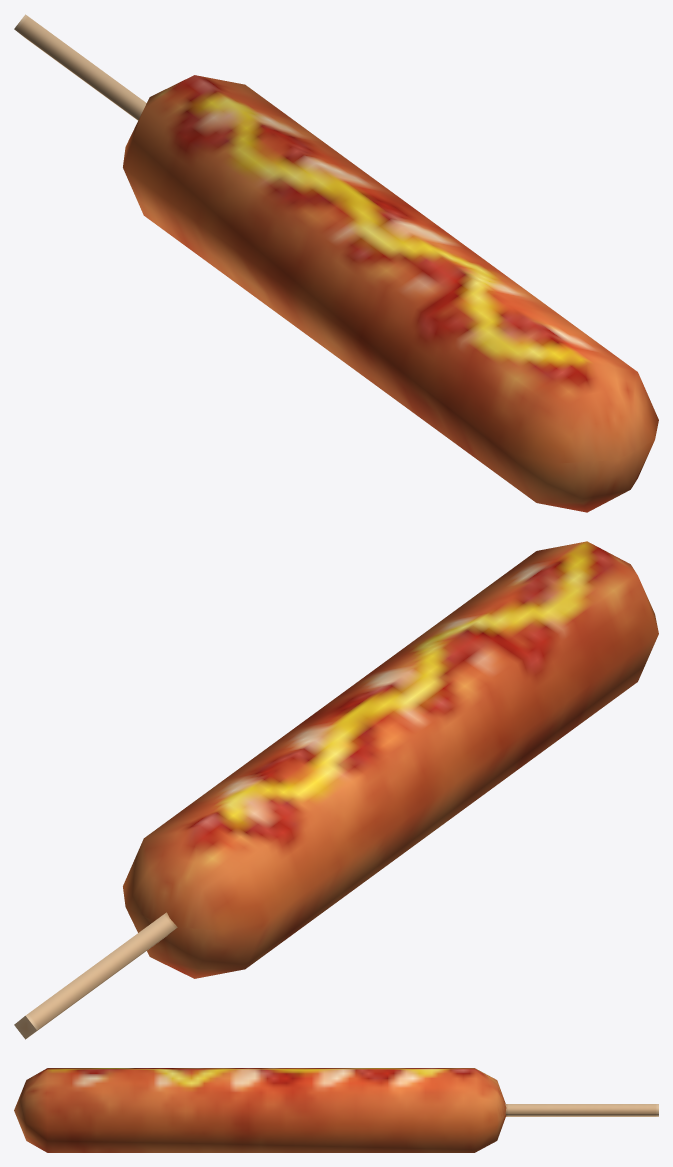
The model's file is jsf_Frankfurt_a03.fbx.
3 views of the same model, one above another, from view 1: azimuth 30°, elevation 25°; view 2: azimuth 150°, elevation 25°; view 3: azimuth 270°, elevation 25° (orthographic). The views are drawn at different scales.
Visible parts, largest first — view 1: jsf_Frankfurt_a03; view 2: jsf_Frankfurt_a03; view 3: jsf_Frankfurt_a03.
Boxes of the visible parts, box(x1,y1,x2,y2) form: jsf_Frankfurt_a03: box(14, 14, 658, 512); jsf_Frankfurt_a03: box(14, 541, 658, 1039); jsf_Frankfurt_a03: box(14, 1068, 658, 1152).
Size of the model in its own units: 2.92 by 2.92 by 20.9.
